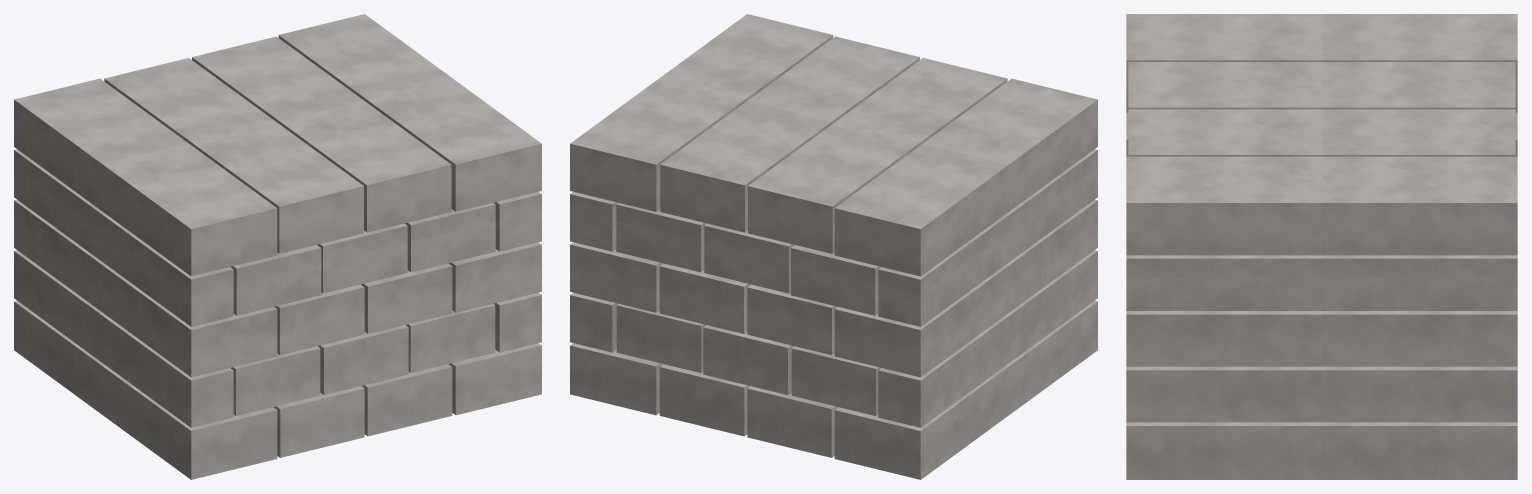
Rendered from 성벽_마름돌.fbx.
3 renders of one model, left to right at view 1: azimuth 30°, elevation 25°; view 2: azimuth 150°, elevation 25°; view 3: azimuth 270°, elevation 25°, orthographic. The views are drawn at different scales.
Visible parts, largest first — view 1: 성벽_마름돌; view 2: 성벽_마름돌; view 3: 성벽_마름돌.
Part boxes in pixels (x1,y1,x2,y2): 성벽_마름돌: (14,14,541,479); 성벽_마름돌: (570,14,1097,479); 성벽_마름돌: (1126,14,1517,479).
Size of the model in its own units: 800 by 547 by 700.
Materials: 1 (1 with a texture image).
